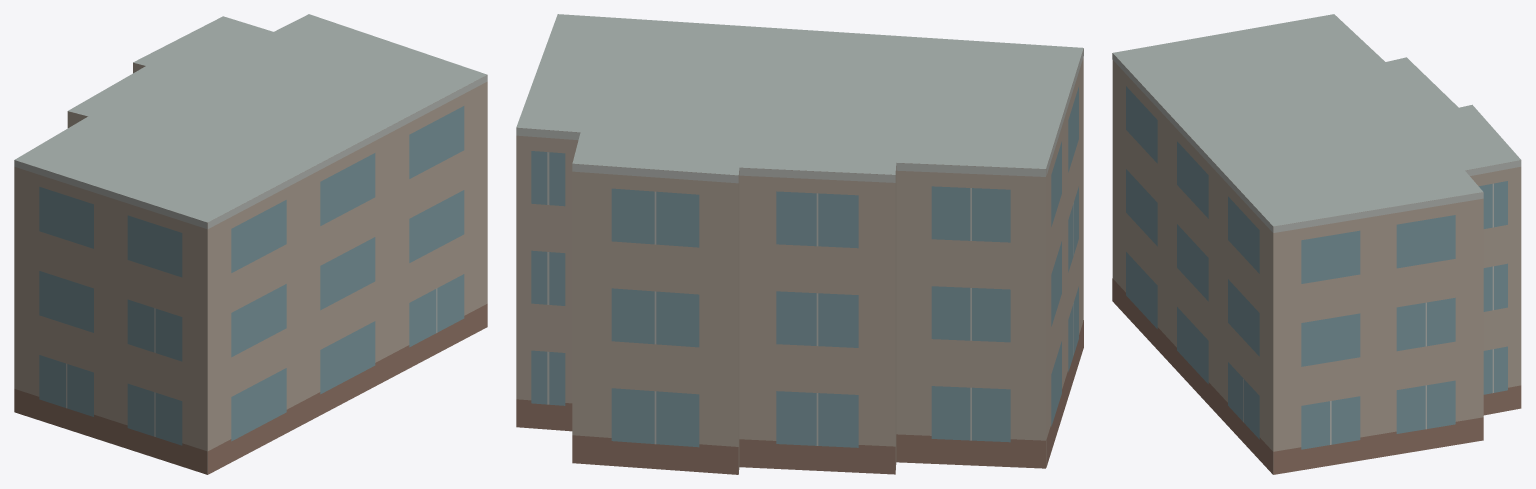
File: survey-upis-32900168.glb
3 views of the same model, side by side, from view 1: azimuth 30°, elevation 25°; view 2: azimuth 150°, elevation 25°; view 3: azimuth 270°, elevation 25° (orthographic). The views are drawn at different scales.
Visible parts, largest first — view 1: survey-upis-32900168.tmp; view 2: survey-upis-32900168.tmp; view 3: survey-upis-32900168.tmp.
Boxes of the visible parts, box(x1,y1,x2,y2) form: survey-upis-32900168.tmp: box(14, 14, 487, 474); survey-upis-32900168.tmp: box(516, 14, 1083, 474); survey-upis-32900168.tmp: box(1112, 14, 1521, 474).
Bounding box in the file's own units: 16.8 × 9.15 × 13.66.
